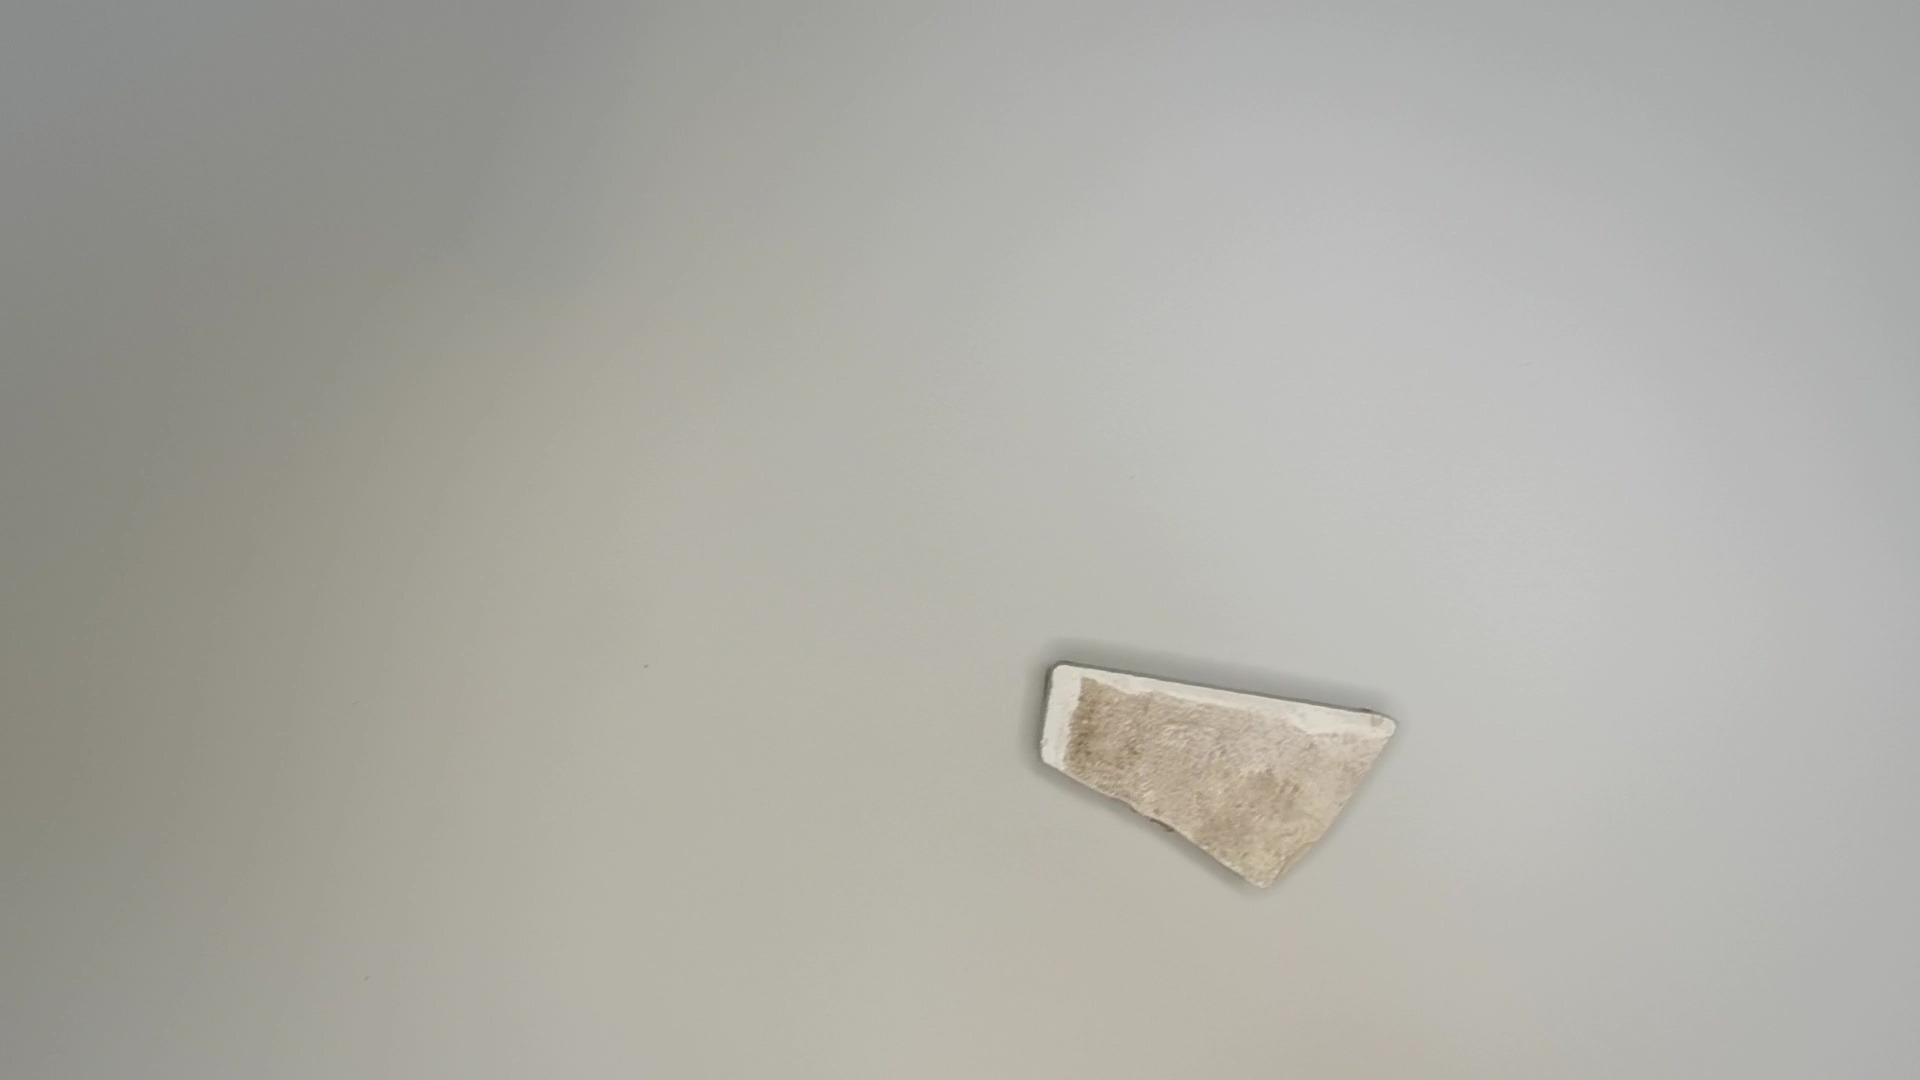ceramic: (1033, 665, 1418, 905)
